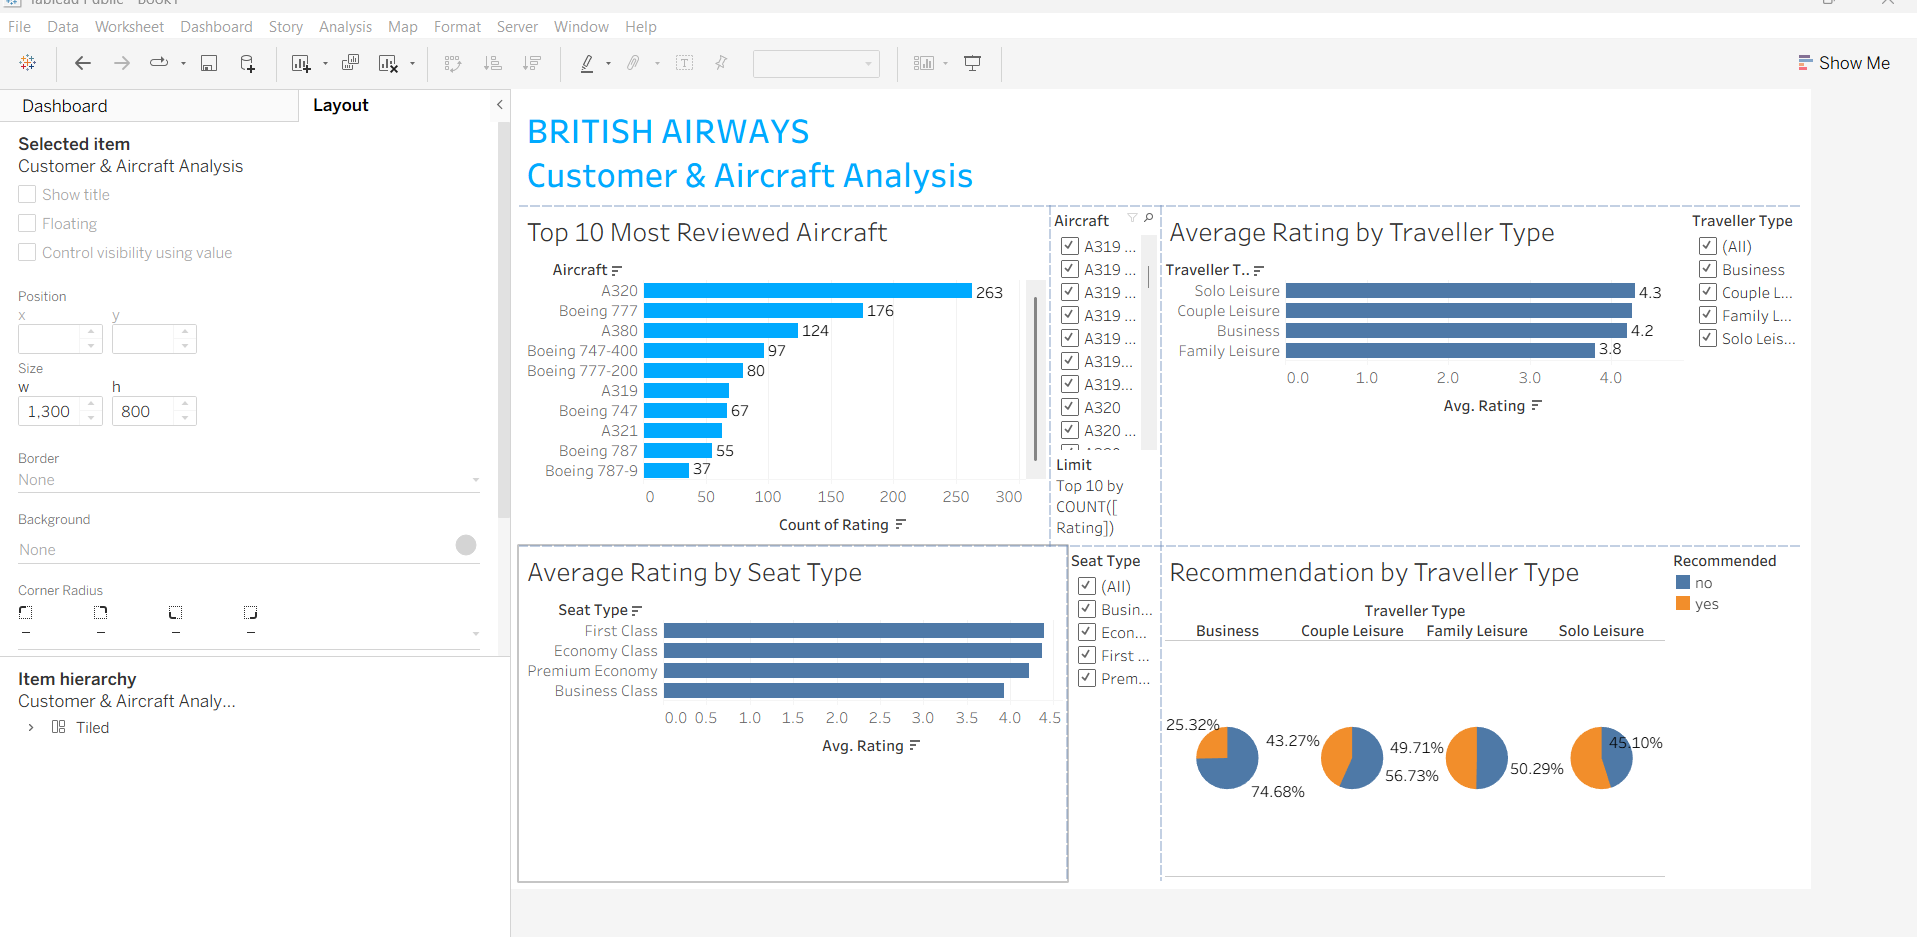

This screenshot's page, from the dashboard's own definition file:
{"tool":"tableau","page":{"name":"Customer & Aircraft Analysis","canvas":[1300,800],"ordinal":1},"visuals":[{"type":"text","box":[8,8,1284,109]},{"type":"worksheet","title":"Top 10 Most Reviewed Aircraft","mark":"Automatic","rows":["aircraft"],"cols":["rating"],"box":[8,117,531,340]},{"type":"filter","title":"Top 10 Most Reviewed Aircraft","param":"[federated.1ffr22w07ojad619l48am0u1a89o].[none:aircraft:nk]","box":[539,117,111,340]},{"type":"worksheet","title":"Reviews by Traveller Type","mark":"Automatic","rows":["traveller_type"],"cols":["rating"],"box":[650,117,527,340]},{"type":"filter","title":"Reviews by Traveller Type","param":"[federated.1ffr22w07ojad619l48am0u1a89o].[none:traveller_type:nk]","box":[1177,117,115,340]},{"type":"worksheet","title":"Average Rating by Seat Type","mark":"Automatic","rows":["seat_type"],"cols":["rating"],"box":[8,457,548,335]},{"type":"filter","title":"Average Rating by Seat Type","param":"[federated.1ffr22w07ojad619l48am0u1a89o].[none:seat_type:nk]","box":[556,457,94,335]},{"type":"worksheet","title":"Recommendation by Traveller Type","mark":"Pie","cols":["traveller_type"],"box":[650,457,508,335]},{"type":"legend","title":"Recommendation by Traveller Type","param":"[federated.1ffr22w07ojad619l48am0u1a89o].[none:recommended:nk]","box":[1158,457,134,212]}]}

Visuals, with their boxes on the page's 1300x800 design canvas (x1, y1, x2, y2). These are canvas units, not pixel positions in the 1917x937 screenshot, which may show the page scaled, cropped or inside an application window:
text: (8,8,1292,117)
"Top 10 Most Reviewed Aircraft" worksheet: (8,117,539,457)
"Top 10 Most Reviewed Aircraft" filter: (539,117,650,457)
"Reviews by Traveller Type" worksheet: (650,117,1177,457)
"Reviews by Traveller Type" filter: (1177,117,1292,457)
"Average Rating by Seat Type" worksheet: (8,457,556,792)
"Average Rating by Seat Type" filter: (556,457,650,792)
"Recommendation by Traveller Type" worksheet (Pie marks): (650,457,1158,792)
"Recommendation by Traveller Type" legend: (1158,457,1292,669)
